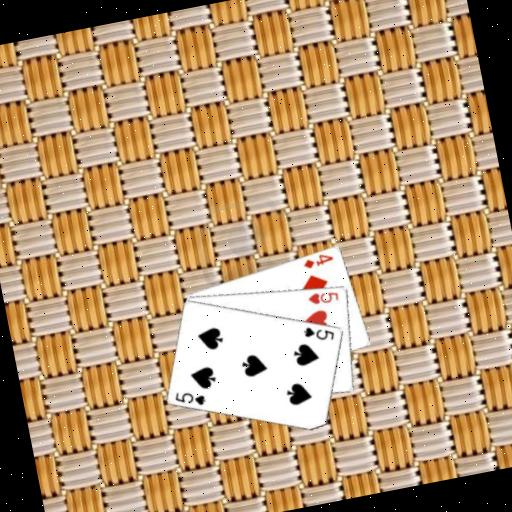4D: (300, 249, 336, 271)
5H: (305, 286, 341, 308)
5S: (300, 319, 338, 347), (171, 384, 208, 412)
